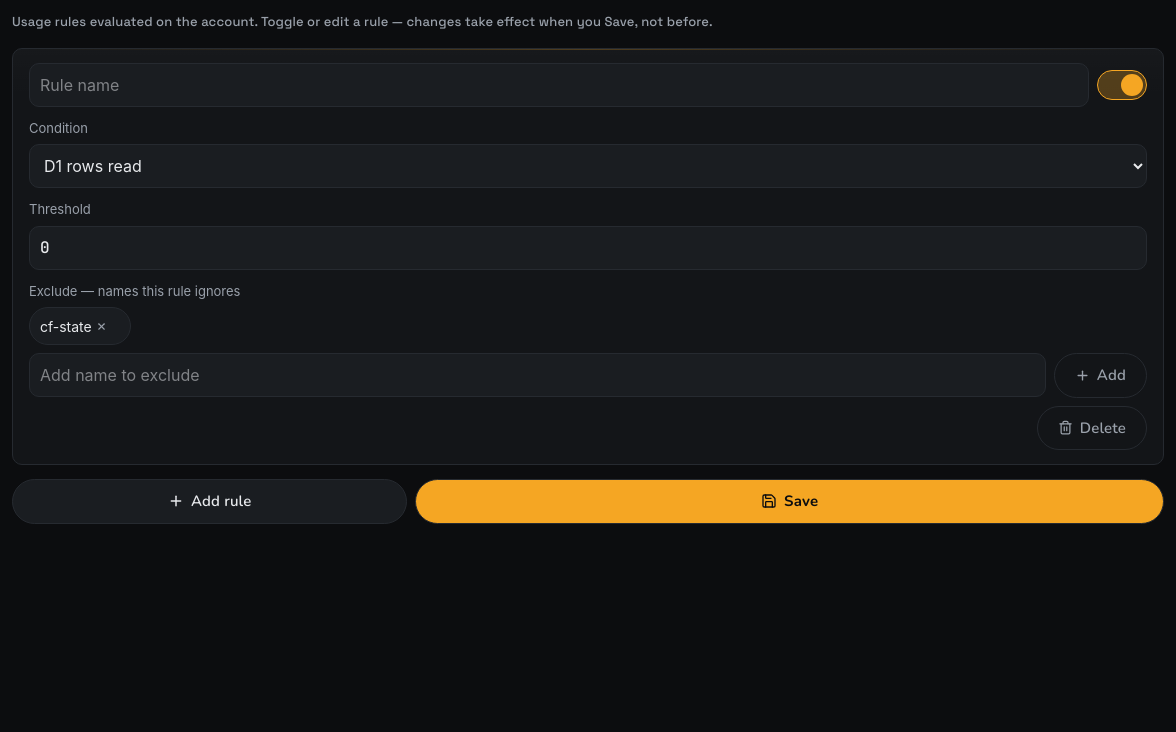
Test: RulesView (P-06) › a duplicate exclude chip is not added and remove kills it
Check: the text with class "cf-chip-value" reads "cf-state", box [40,318,92,334]
Type " cf-state " into the field with placeholder "Add name to exclude".
click(537, 375); type(" cf-state ")  # box [29,353,1046,397]
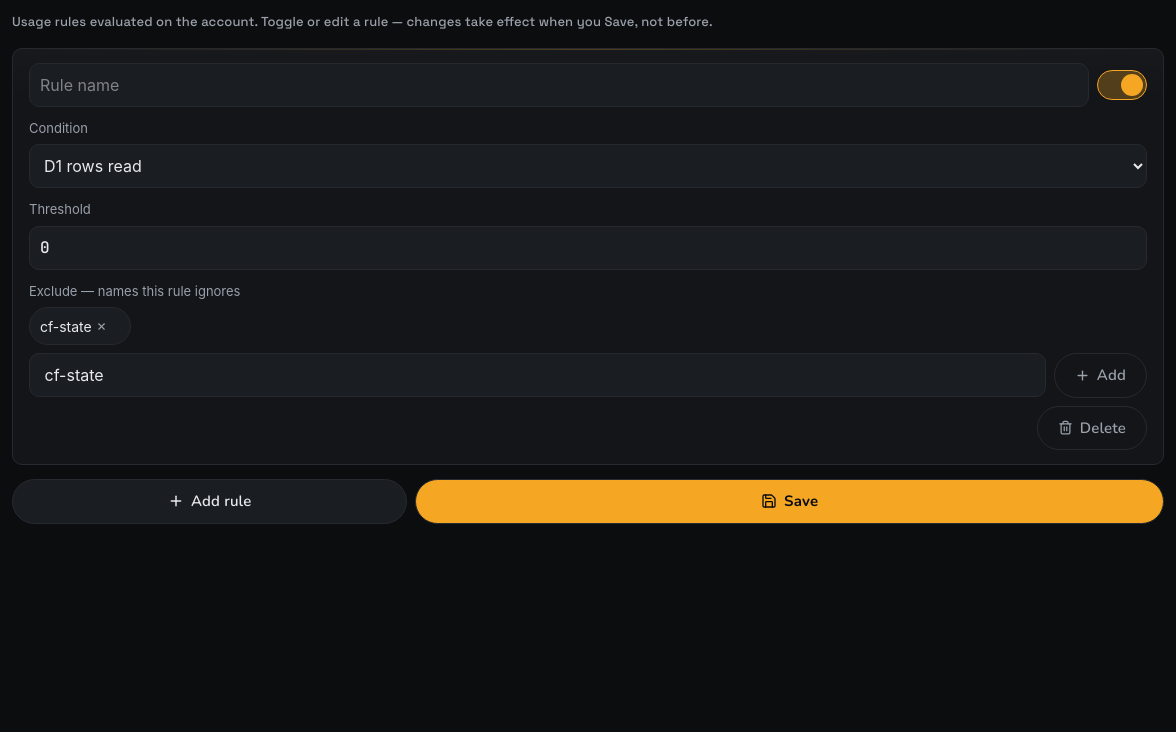
Click the button with class "cf-btn" showing "Add".
click(1100, 375)  # box [1054,353,1147,398]
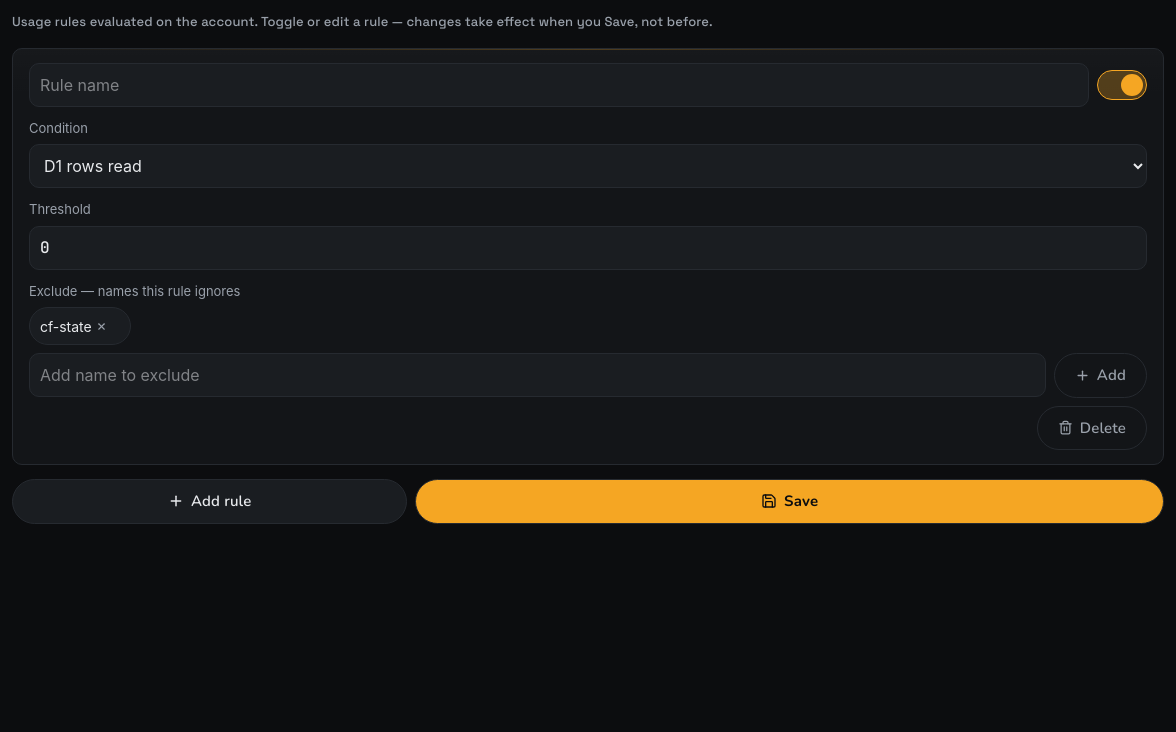
Check: the number of elements with class "cf-chip" is 1, box [29,307,131,345]
Click the button with class "cf-chip-remove".
click(110, 326)  # box [96,312,124,340]
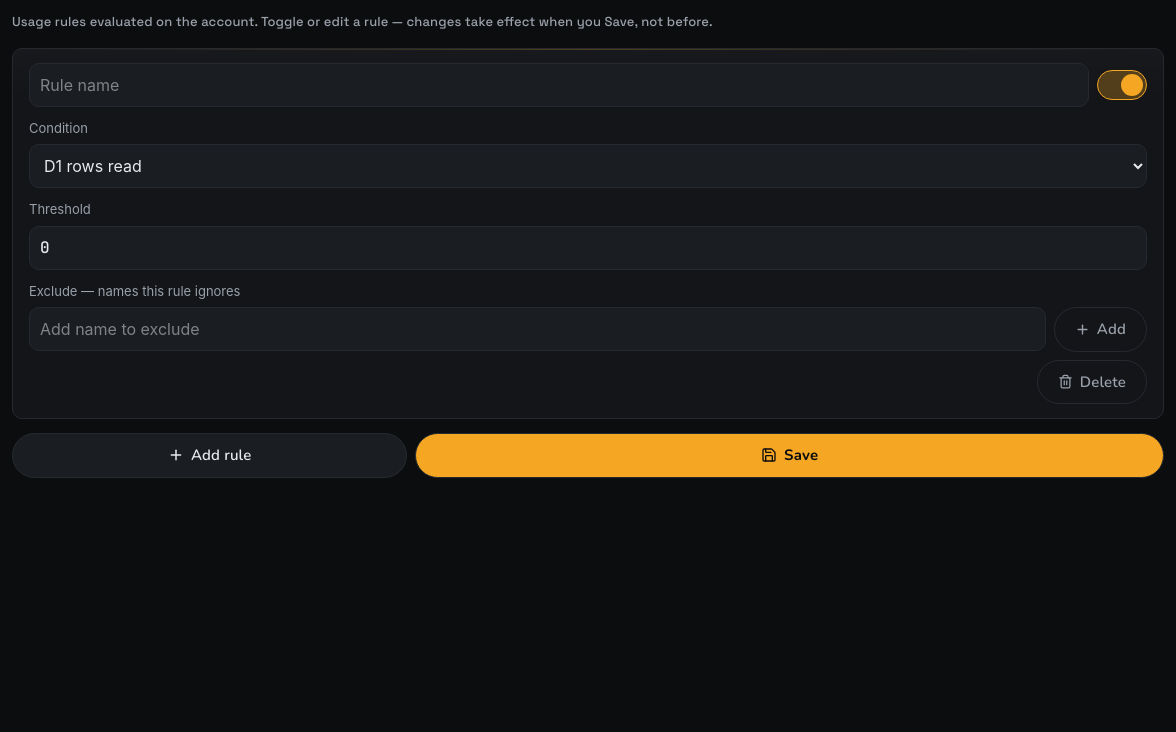
Check: no elements with class "cf-chip" are shown
